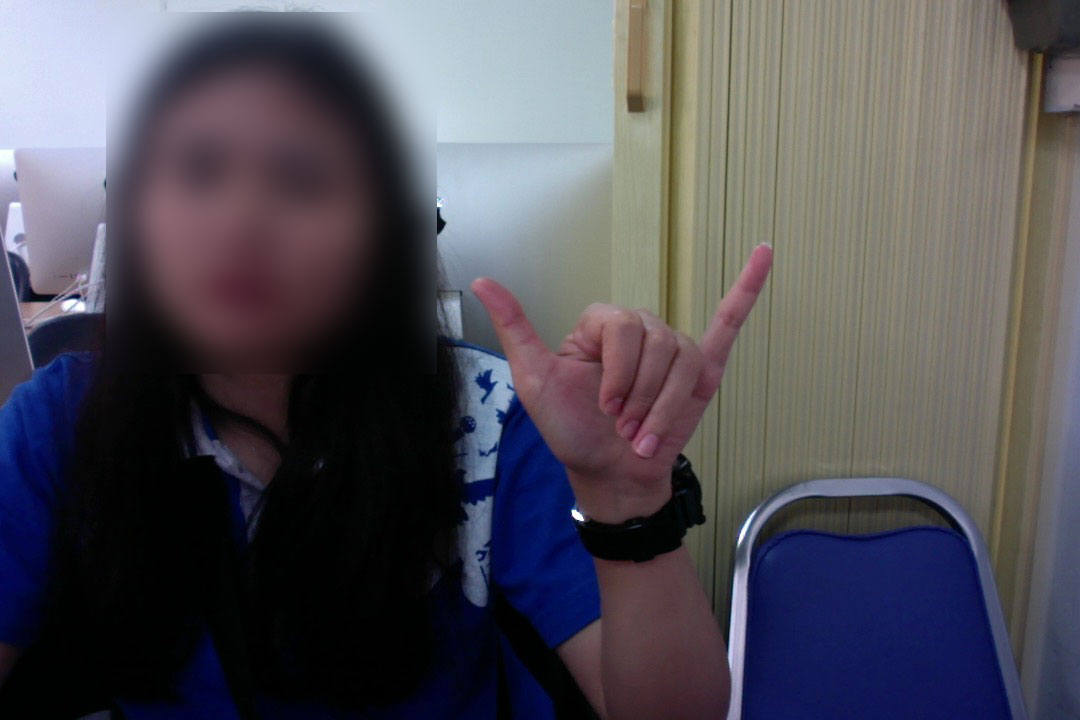yor: (462, 232, 783, 523)
